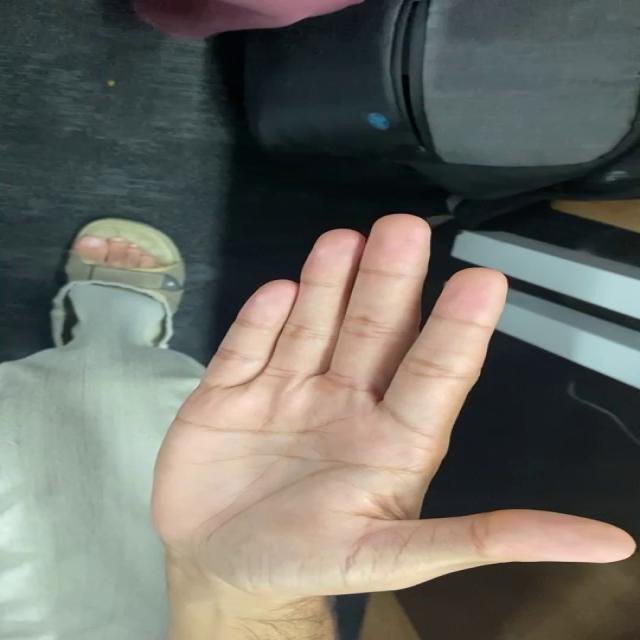no-gloves: (98, 181, 640, 612)
